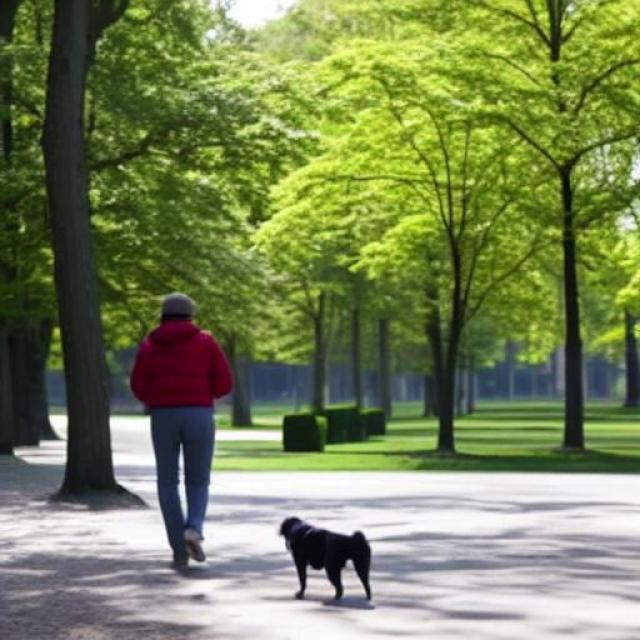Unleashed_Dog: (156, 408, 372, 605)
